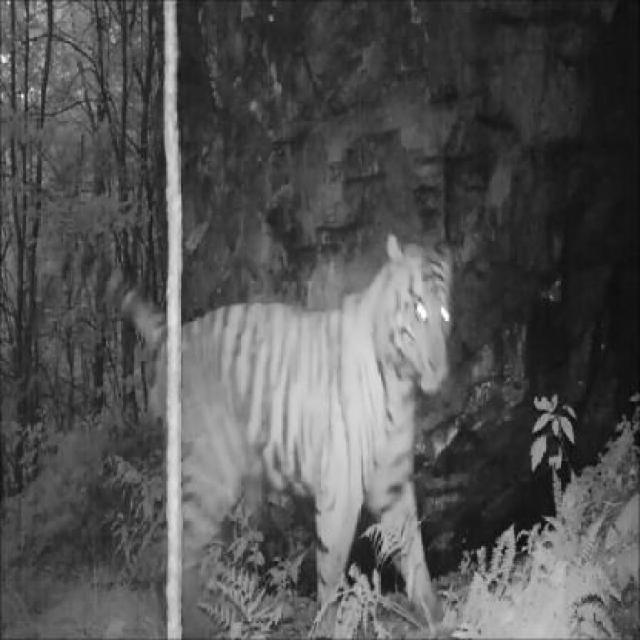Tiger: (106, 215, 517, 610)
